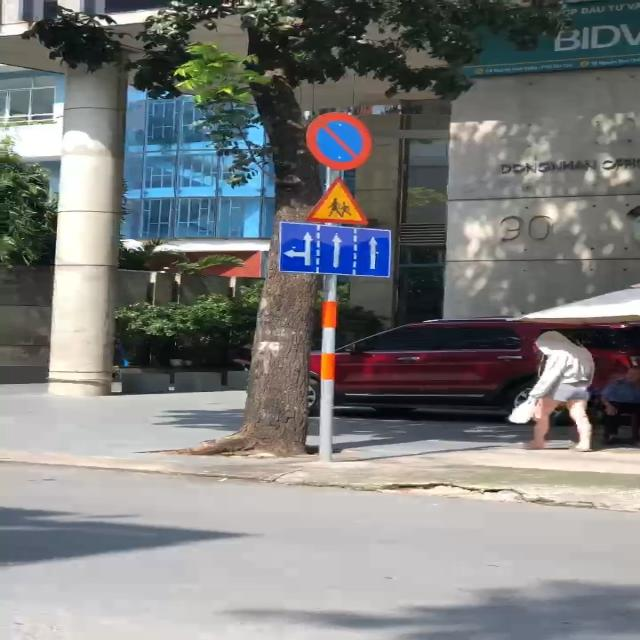Bien bao cam do xe: (302, 110, 378, 169)
Bien bao tre em: (305, 176, 378, 224)
